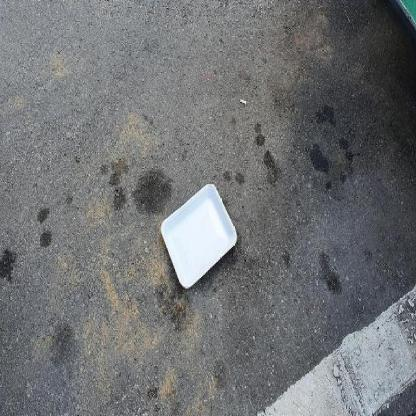Glass Cup: (159, 180, 237, 290), (161, 184, 237, 289)
